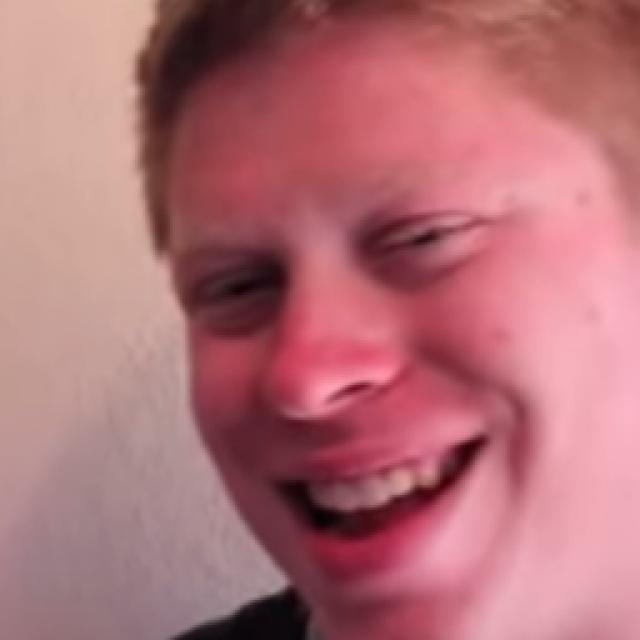Normal: (165, 27, 638, 620)
